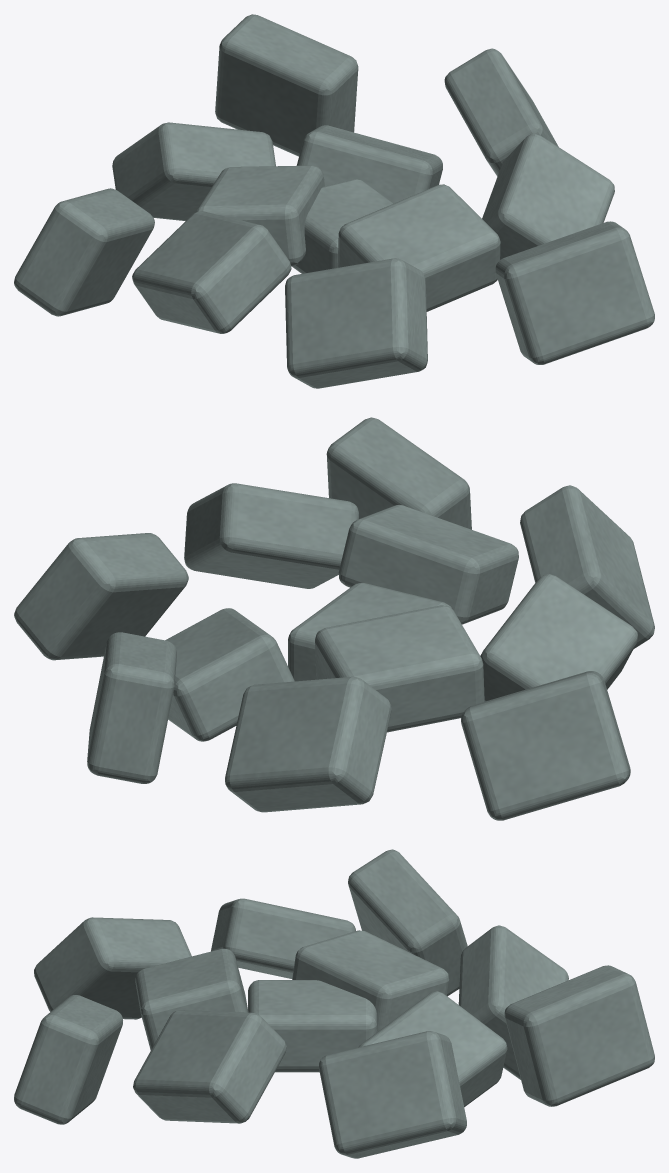
The model's file is SM_tower_rubble.fbx.
3 renders of one model, top to bottom at view 1: azimuth 30°, elevation 25°; view 2: azimuth 150°, elevation 25°; view 3: azimuth 270°, elevation 25°, orthographic. The views are drawn at different scales.
Parts seen in each view (by area): view 1: SM_tower_rubble; view 2: SM_tower_rubble; view 3: SM_tower_rubble.
Part boxes in pixels (<box>): SM_tower_rubble: <box>14,14,654,388</box>; SM_tower_rubble: <box>14,417,654,820</box>; SM_tower_rubble: <box>14,849,654,1158</box>.
Size of the model in its own units: 1.62 by 1.74 by 0.4556.
